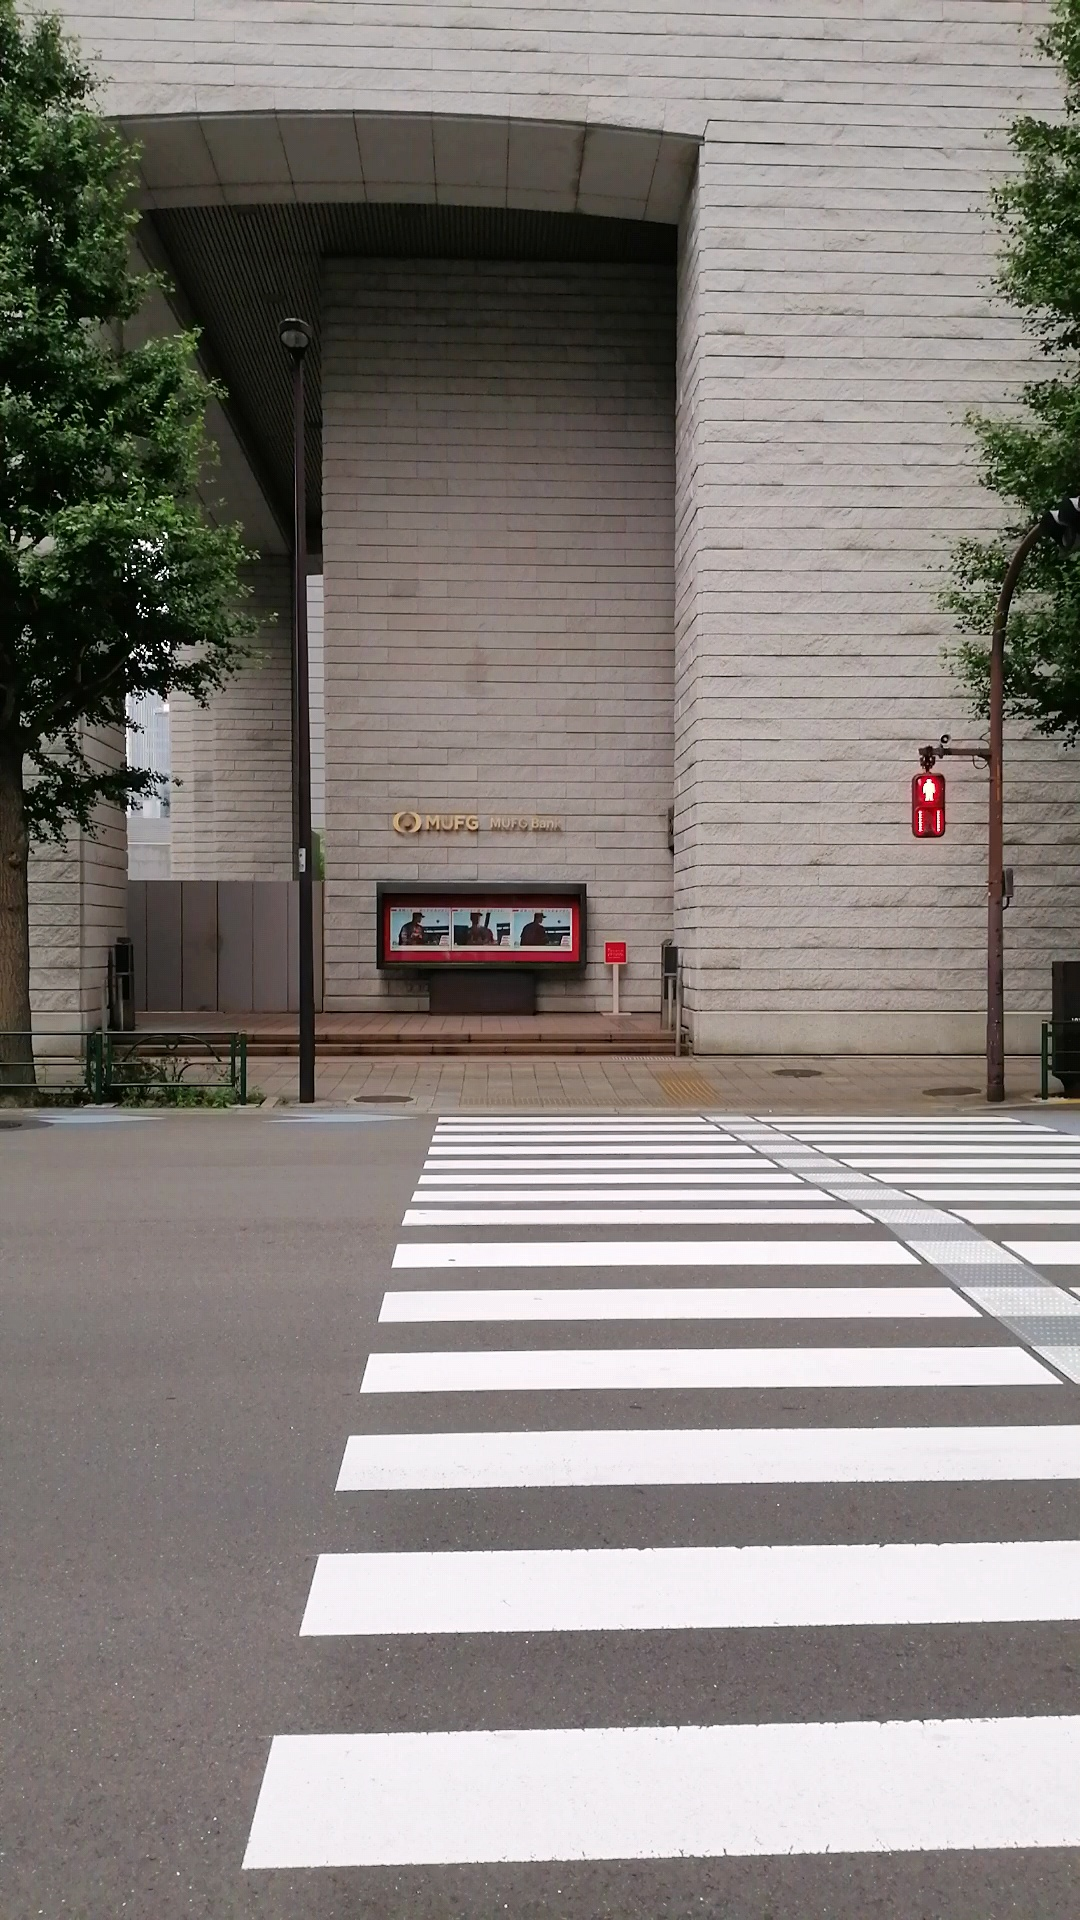red: (910, 771, 945, 840)
